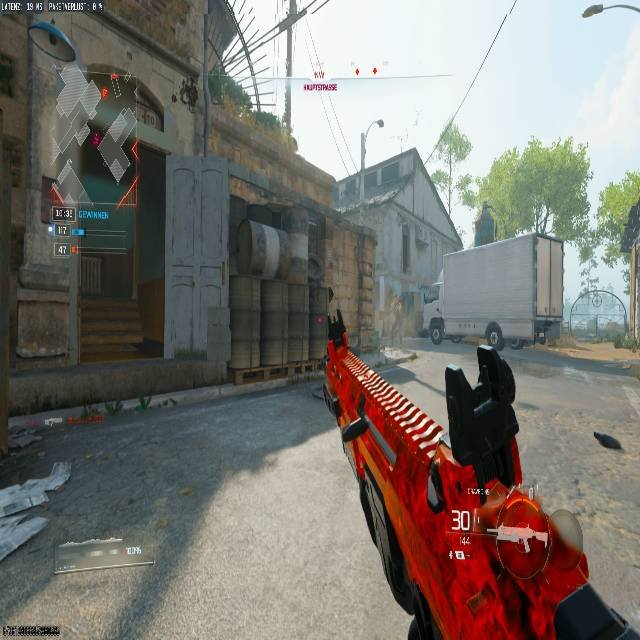player: (428, 313, 444, 345)
